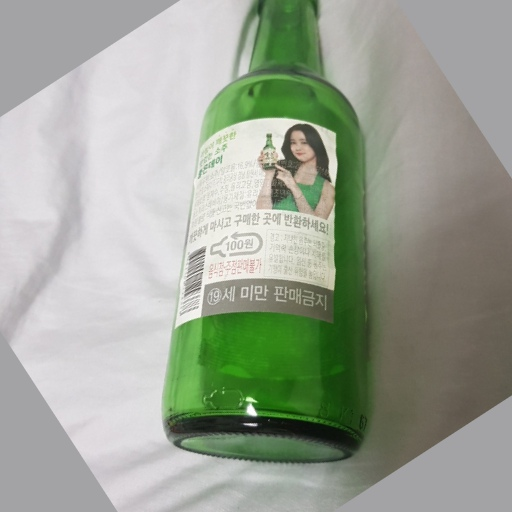Glass_0: (157, 1, 376, 466)
